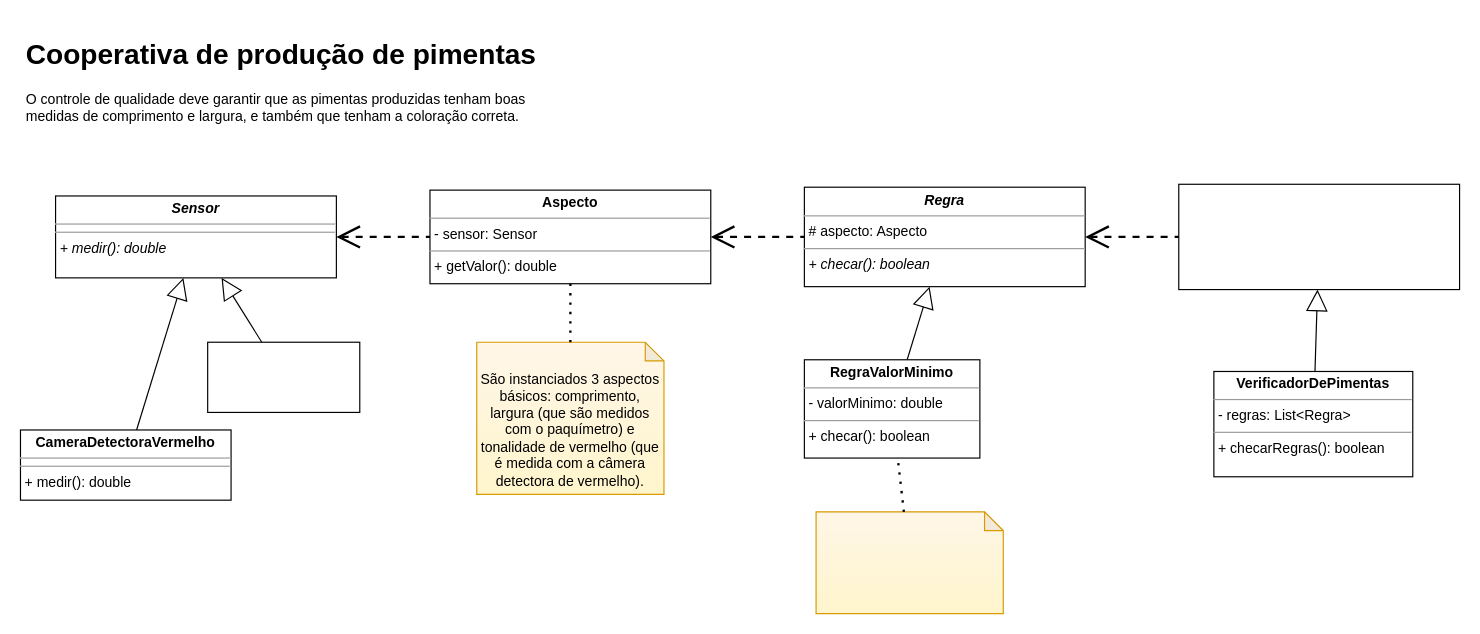
This 1480x634 diagram has some shape labels left out. The shapes that lost their labels are listed below. From the top down, each one's box as (x1, y1, x2, y2) in pixels, then its label:
(1178, 183, 1460, 290): VerificadorDeProduto - regras: List<Regra> + checarRegras(): boolean
(207, 341, 360, 412): Paquímetro + medir(): double
(815, 511, 1003, 614): A regra de valor mínimo é usada para todos os aspectos a serem analisados.
